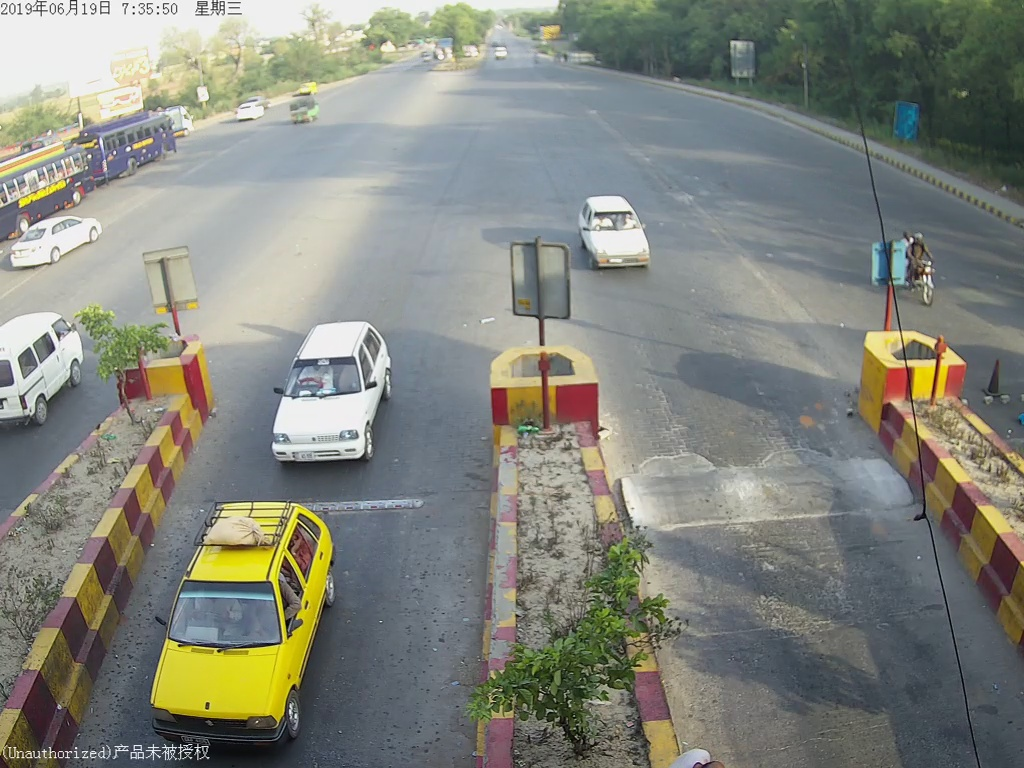Cat-1: (143, 502, 334, 744), (255, 322, 404, 469), (577, 190, 656, 274)
